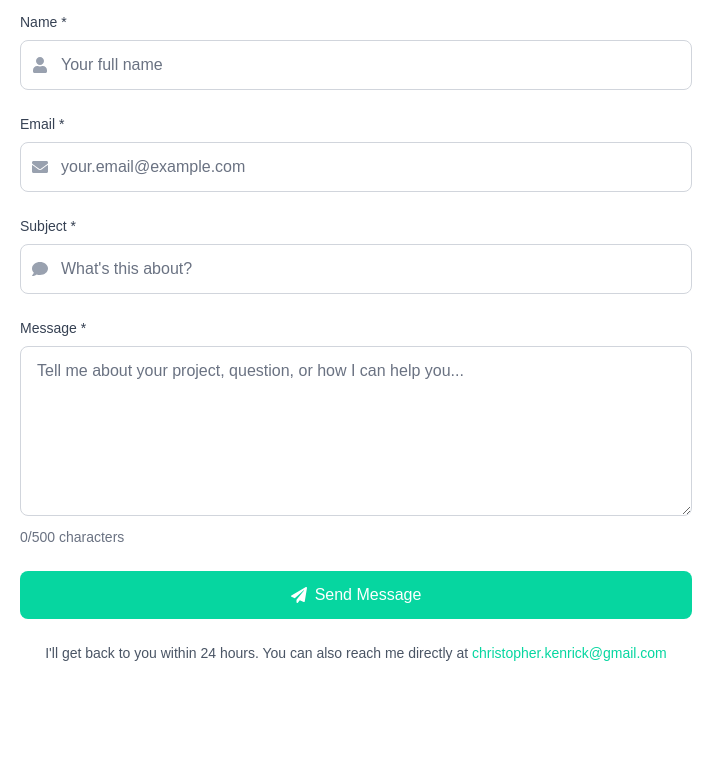
Test case: ContactForm Component › validates required fields
This screenshot has width=713, height=774.
Click the button "Send Message" at [356, 595], box [20, 571, 692, 619]
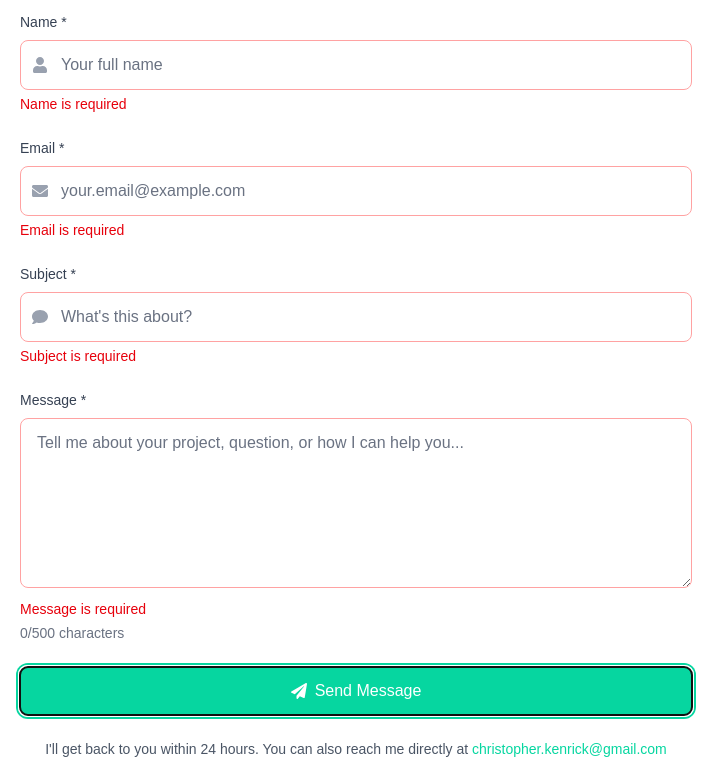
Check: the text "Name is required" is shown, box [20, 96, 127, 112]
Check: the text "Email is required" is shown, box [20, 222, 124, 238]
Check: the text "Subject is required" is shown, box [20, 348, 136, 364]
